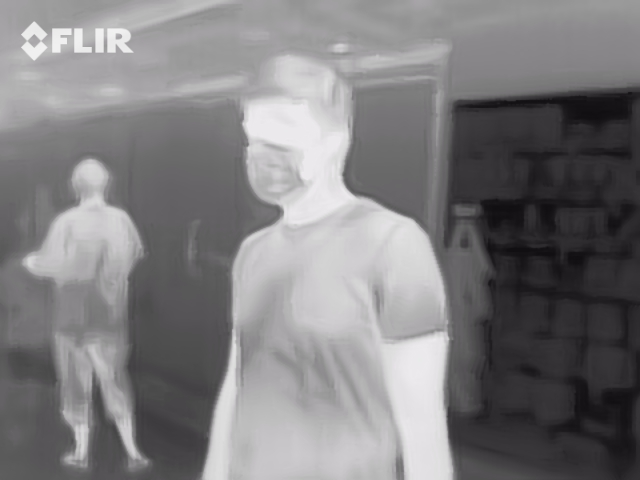head: (237, 56, 356, 207)
